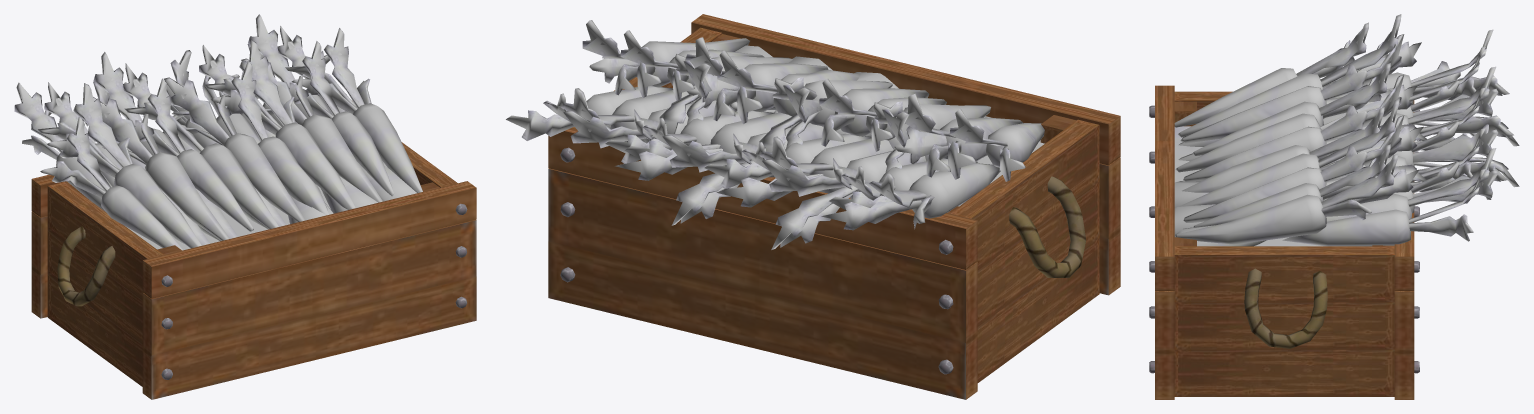
Rendered from crate-qp-farmcratecarrot.glb.
3 renders of one model, left to right at view 1: azimuth 30°, elevation 25°; view 2: azimuth 150°, elevation 25°; view 3: azimuth 270°, elevation 25°, orthographic. The views are drawn at different scales.
Parts seen in each view (by area): view 1: Cylinder_018; view 2: Cylinder_018; view 3: Cylinder_018.
Boxes of the visible parts, x1,y1,x2,y2 form: Cylinder_018: (14,14,476,399); Cylinder_018: (506,14,1120,399); Cylinder_018: (1149,14,1519,399).
Bounding box in the file's own units: 0.7138 × 0.4113 × 0.567.
Materials: 3 (3 with a texture image).
